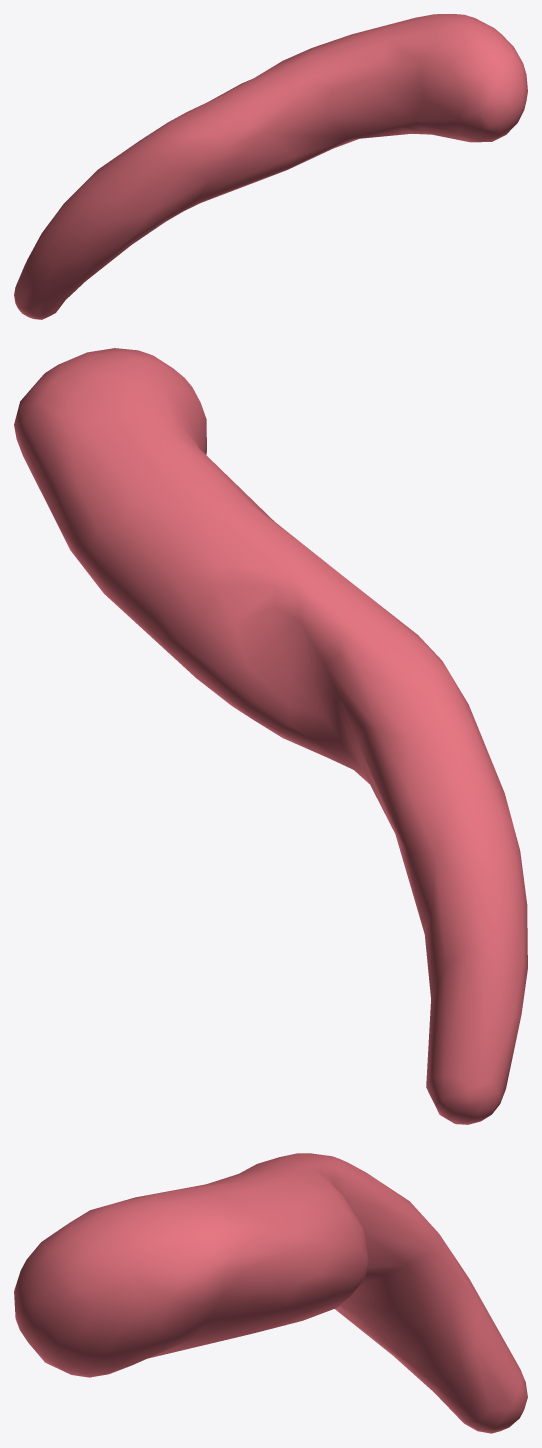
File: fma8613_fj3019.glb
The picture shows the model from 3 angles, top to bottom: view 1: azimuth 30°, elevation 25°; view 2: azimuth 150°, elevation 25°; view 3: azimuth 270°, elevation 25°; orthographic projection. The views are drawn at different scales.
Parts seen in each view (by area): view 1: FMA8613_FJ3019; view 2: FMA8613_FJ3019; view 3: FMA8613_FJ3019.
Boxes of the visible parts, x1=… form: FMA8613_FJ3019: x1=14, y1=14, x2=527, y2=319; FMA8613_FJ3019: x1=14, y1=348, x2=527, y2=1124; FMA8613_FJ3019: x1=14, y1=1153, x2=527, y2=1433.
Bounding box in the file's own units: 0.0959 × 0.0696 × 0.0682.
